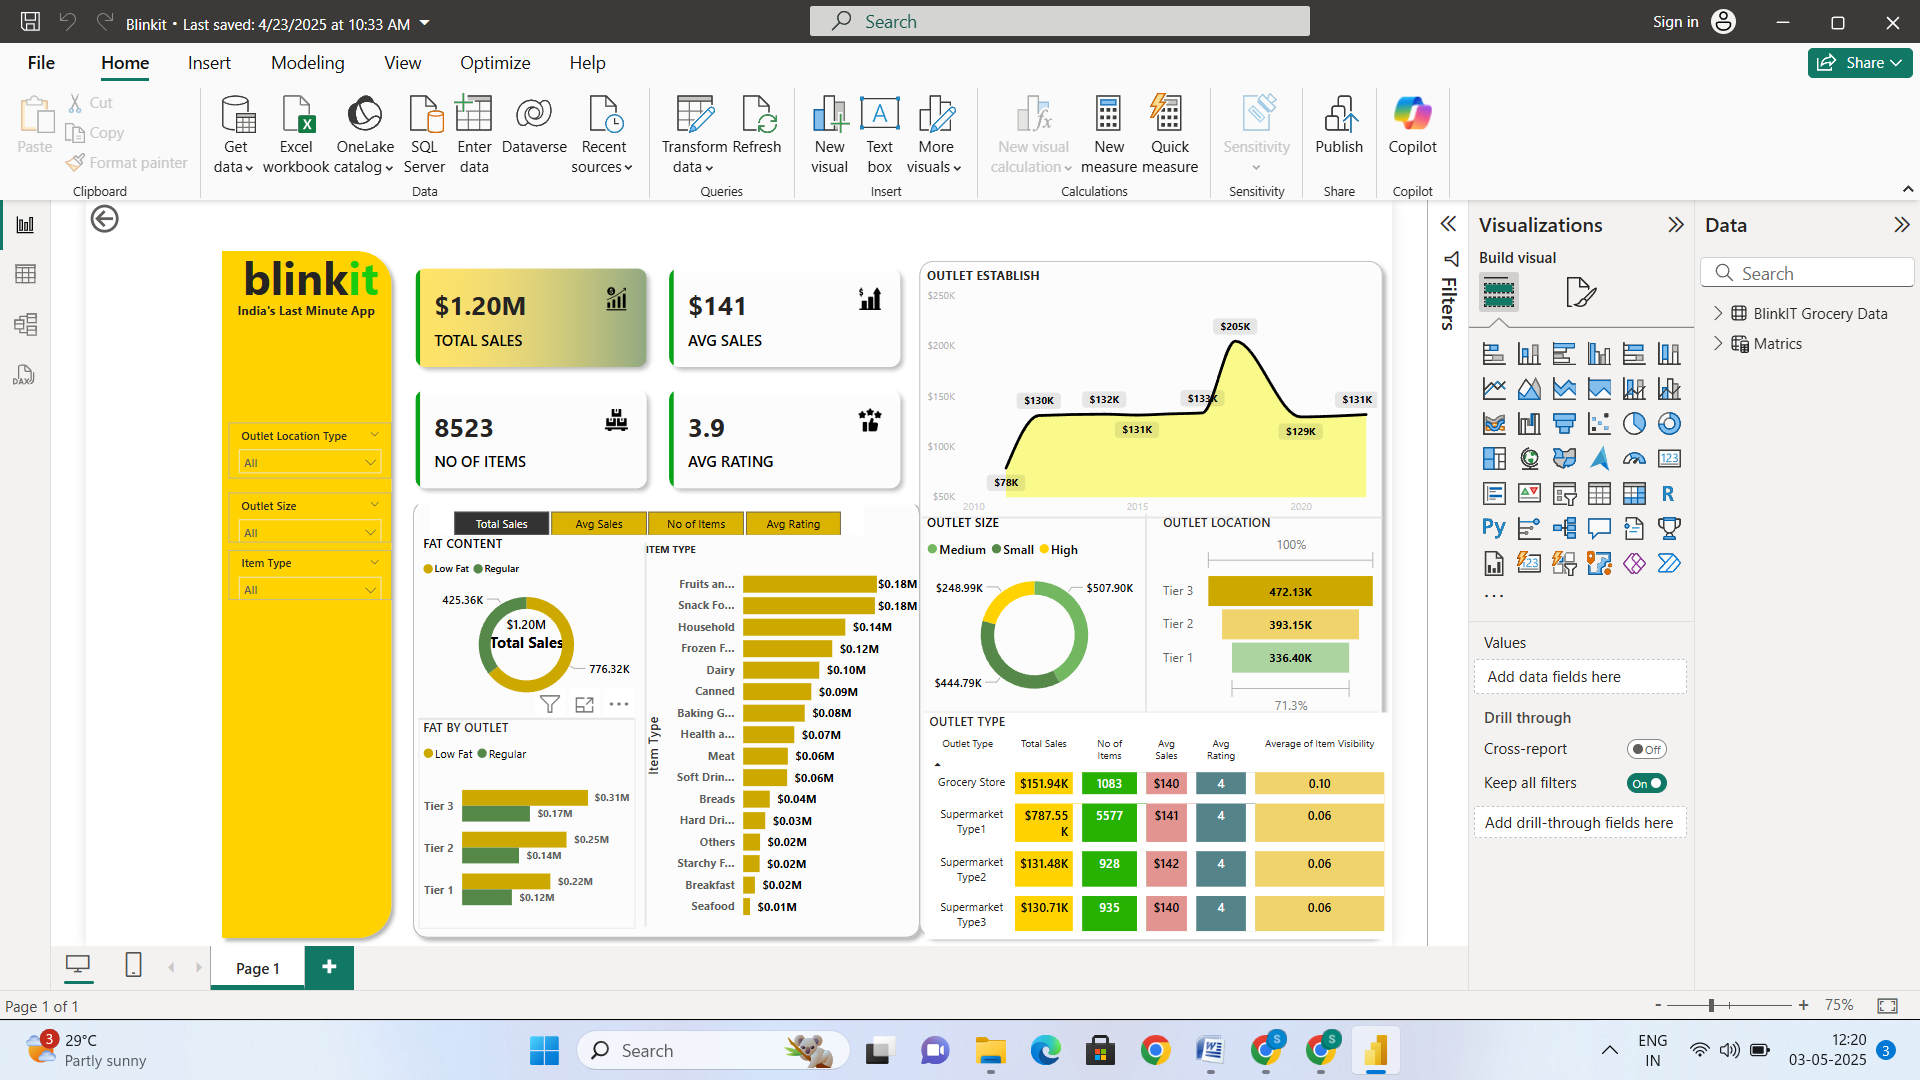

The dashboard page shown, as its layout file describes it:
{"tool":"powerbi","page":{"name":"Page 1","canvas":[1400,800],"ordinal":0},"visuals":[{"type":"shape","box":[136.7,45,200,755],"z":0},{"type":"textbox","box":[145,45,191.7,76.7],"z":1000},{"type":"textbox","box":[153.3,105,166.7,33.3],"z":2000},{"type":"shape","box":[341.7,313.3,561.7,486.7],"z":4000},{"type":"slicer","title":"FAT CONTENT","fields":{"Values":["BlinkIT Grocery Data.Outlet Location Type"]},"box":[153.3,238.3,175,60],"z":5000},{"type":"slicer","fields":{"Values":["Matrics.Matrics"]},"box":[368.6,327.1,465.1,32.2],"z":6000},{"type":"cardVisual","fields":{"Data":["BlinkIT Grocery Data.Total Sales"]},"box":[412.9,429,119.3,60.3],"z":7000},{"type":"clusteredBarChart","title":"FAT BY OUTLET","fields":{"Y":["BlinkIT Grocery Data.Total Sales"],"Category":["BlinkIT Grocery Data.Outlet Location Type"],"Series":["BlinkIT Grocery Data.Item Fat Content"]},"box":[356.7,556.7,231.7,225],"z":8000},{"type":"shape","box":[588.3,366.7,23.3,411.7],"z":9000},{"type":"shape","box":[356.7,550,231.7,13.3],"z":10000},{"type":"barChart","title":"ITEM TYPE","fields":{"Y":["BlinkIT Grocery Data.Total Sales"],"Category":["BlinkIT Grocery Data.Item Type"]},"box":[595.2,367.3,301.6,414.2],"z":11000},{"type":"shape","box":[885,56.7,515,743.3],"z":12000},{"type":"lineChart","title":"OUTLET ESTABLISH","fields":{"Y":["BlinkIT Grocery Data.Total Sales"],"Category":["BlinkIT Grocery Data.Outlet Establishment Year"]},"box":[896.7,71.7,493.3,275],"z":13000},{"type":"shape","box":[896.7,333.3,493.3,13.3],"z":14000},{"type":"donutChart","title":"OUTLET SIZE","fields":{"Y":["BlinkIT Grocery Data.Total Sales"],"Category":["BlinkIT Grocery Data.Outlet Size"]},"box":[896.8,336.5,241.3,213.1],"z":15000},{"type":"funnel","title":"OUTLET LOCATION","fields":{"Y":["Sum(BlinkIT Grocery Data.Sales)"],"Category":["BlinkIT Grocery Data.Outlet Location Type"]},"box":[1150,336.7,240,220],"z":16000},{"type":"shape","box":[1130,336.7,13.3,213.3],"z":17000},{"type":"shape","box":[900,543.3,486.7,13.3],"z":18000},{"type":"pivotTable","title":"OUTLET TYPE","fields":{"Rows":["BlinkIT Grocery Data.Outlet Type"],"Values":["BlinkIT Grocery Data.Total Sales","BlinkIT Grocery Data.No of Items","BlinkIT Grocery Data.Avg  Sales","BlinkIT Grocery Data.Avg Rating","Avg(BlinkIT Grocery Data.Item Visibility)"]},"box":[900,550,500,243.3],"z":19000},{"type":"slicer","title":"FAT CONTENT","fields":{"Values":["BlinkIT Grocery Data.Outlet Size"]},"box":[153.3,313.3,175,53.3],"z":20000},{"type":"slicer","title":"FAT CONTENT","fields":{"Values":["BlinkIT Grocery Data.Item Type"]},"box":[153.3,375,175,53.3],"z":21000},{"type":"actionButton","box":[0,0,100,40],"z":22000},{"type":"donutChart","title":"FAT CONTENT","fields":{"Y":["Sum(BlinkIT Grocery Data.Sales)"],"Category":["BlinkIT Grocery Data.Item Fat Content"]},"box":[356.6,359.3,231.9,190.3],"z":23000},{"type":"cardVisual","fields":{"Data":["BlinkIT Grocery Data.Total Sales","BlinkIT Grocery Data.Avg  Sales","BlinkIT Grocery Data.No of Items","BlinkIT Grocery Data.Avg Rating"]},"box":[336.5,56.3,555,270.8],"z":23001}]}

Visuals, with their boxes on the page's 1400x800 design canvas (x1, y1, x2, y2). These are canvas units, not pixel positions in the 1920x1080 screenshot, which may show the page scaled, cropped or inside an application window:
shape: [x1=137, y1=45, x2=337, y2=800]
textbox: [x1=145, y1=45, x2=337, y2=122]
textbox: [x1=153, y1=105, x2=320, y2=138]
shape: [x1=342, y1=313, x2=903, y2=800]
"FAT CONTENT" slicer: [x1=153, y1=238, x2=328, y2=298]
slicer - Matrics.Matrics: [x1=369, y1=327, x2=834, y2=359]
cardVisual - BlinkIT Grocery Data.Total Sales: [x1=413, y1=429, x2=532, y2=489]
"FAT BY OUTLET" clusteredBarChart: [x1=357, y1=557, x2=588, y2=782]
shape: [x1=588, y1=367, x2=612, y2=778]
shape: [x1=357, y1=550, x2=588, y2=563]
"ITEM TYPE" barChart: [x1=595, y1=367, x2=897, y2=782]
shape: [x1=885, y1=57, x2=1400, y2=800]
"OUTLET ESTABLISH" lineChart: [x1=897, y1=72, x2=1390, y2=347]
shape: [x1=897, y1=333, x2=1390, y2=347]
"OUTLET SIZE" donutChart: [x1=897, y1=336, x2=1138, y2=550]
"OUTLET LOCATION" funnel: [x1=1150, y1=337, x2=1390, y2=557]
shape: [x1=1130, y1=337, x2=1143, y2=550]
shape: [x1=900, y1=543, x2=1387, y2=557]
"OUTLET TYPE" pivotTable: [x1=900, y1=550, x2=1400, y2=793]
"FAT CONTENT" slicer: [x1=153, y1=313, x2=328, y2=367]
"FAT CONTENT" slicer: [x1=153, y1=375, x2=328, y2=428]
actionButton: [x1=0, y1=0, x2=100, y2=40]
"FAT CONTENT" donutChart: [x1=357, y1=359, x2=588, y2=550]
cardVisual - BlinkIT Grocery Data.Total Sales x BlinkIT Grocery Data.Avg  Sales: [x1=336, y1=56, x2=892, y2=327]
